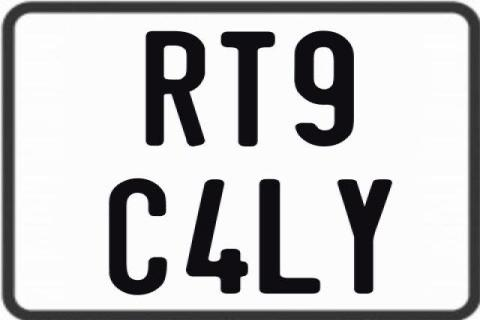0: (183, 179, 248, 297), (293, 30, 353, 148)
C: (107, 178, 167, 298)
L: (260, 179, 326, 297)
R: (144, 30, 208, 146)
T: (218, 31, 278, 147)
Y: (336, 177, 395, 297)
